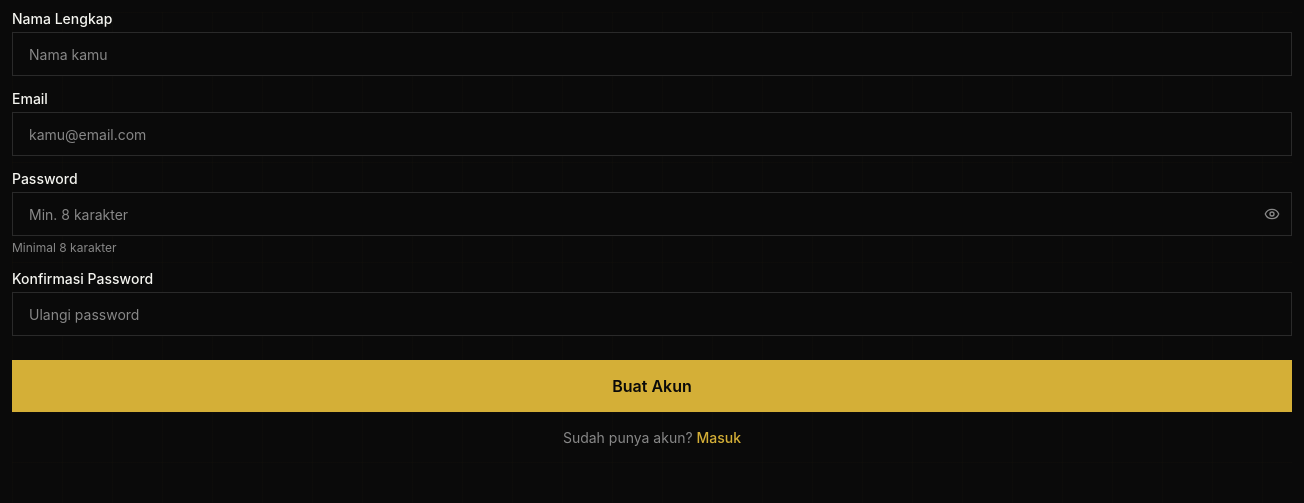
Test: SignupForm › shows error jika nama kurang dari 2 karakter
The image size is (1304, 503).
In the field labelled "Nama Lengkap": {"x": 652, "y": 54} [12,32,1292,76], type "A"
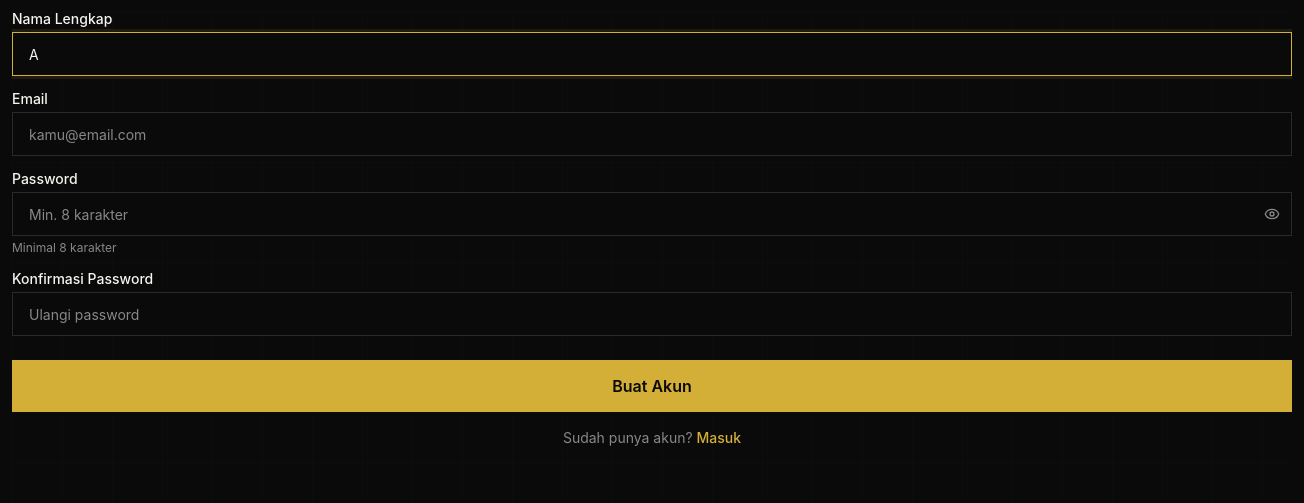
Click the button "Buat Akun": {"x": 652, "y": 386} [12,360,1292,412]
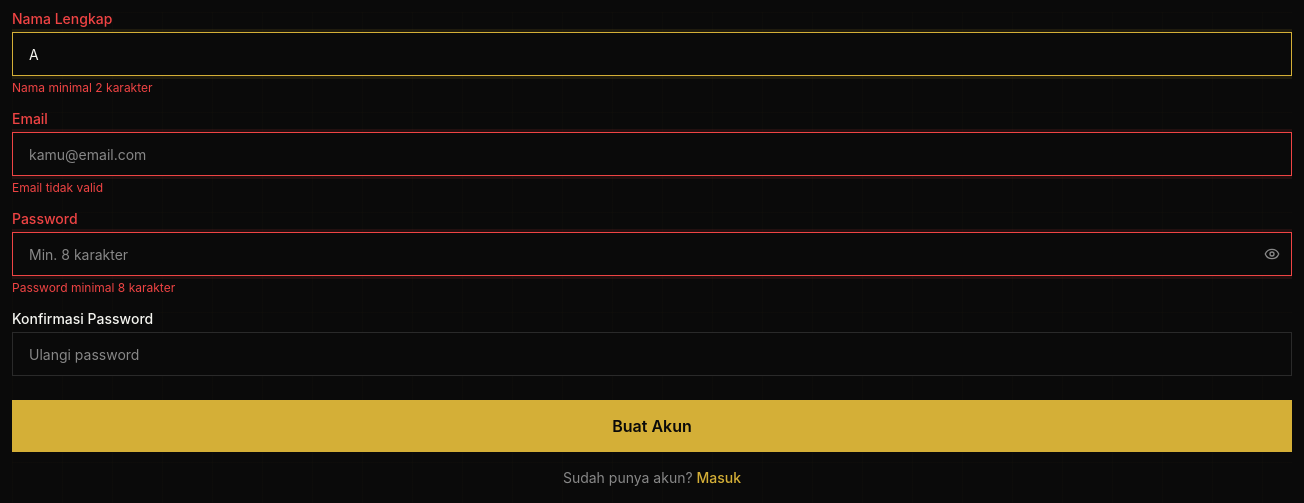
Check: the text "Nama minimal 2 karakter" is shown, box [12,80,152,95]
